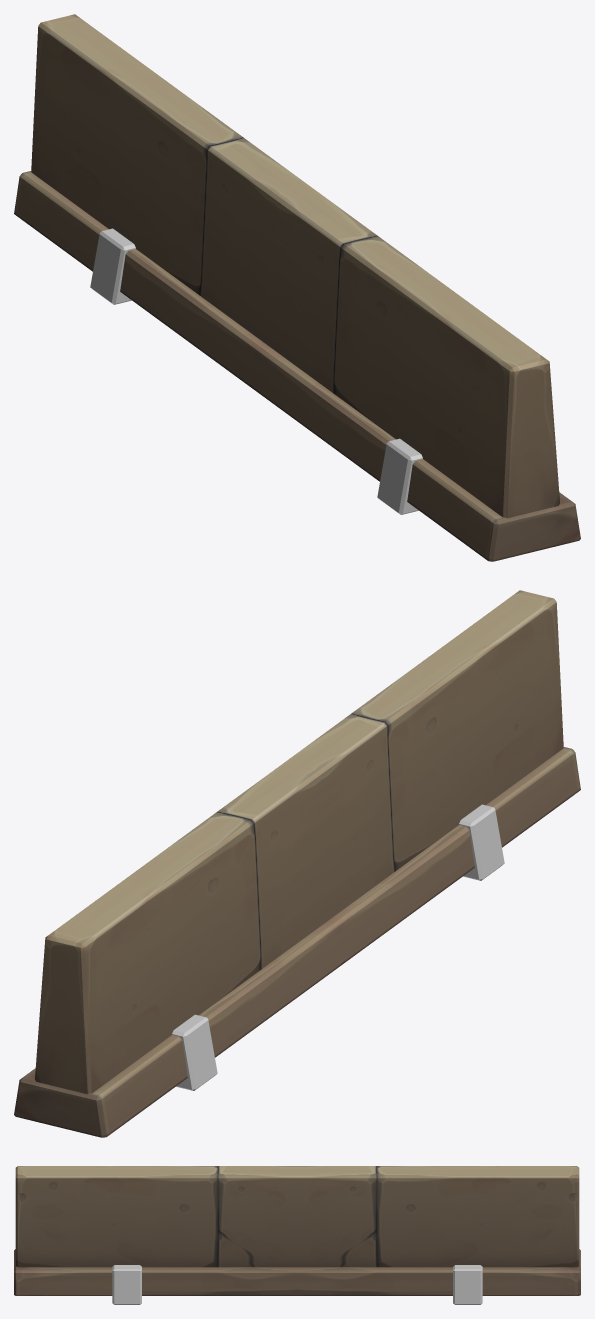
The model's file is small_wall_01.fbx.
3 views of the same model, one above another, from view 1: azimuth 30°, elevation 25°; view 2: azimuth 150°, elevation 25°; view 3: azimuth 270°, elevation 25° (orthographic). The views are drawn at different scales.
Parts seen in each view (by area): view 1: wh_small_wall_01; view 2: wh_small_wall_01; view 3: wh_small_wall_01.
Part boxes in pixels (<box>): wh_small_wall_01: <box>14,14,580,561</box>; wh_small_wall_01: <box>14,590,580,1137</box>; wh_small_wall_01: <box>14,1166,580,1304</box>.
Bounding box in the file's own units: 0.8511 × 1.55 × 6.72.
